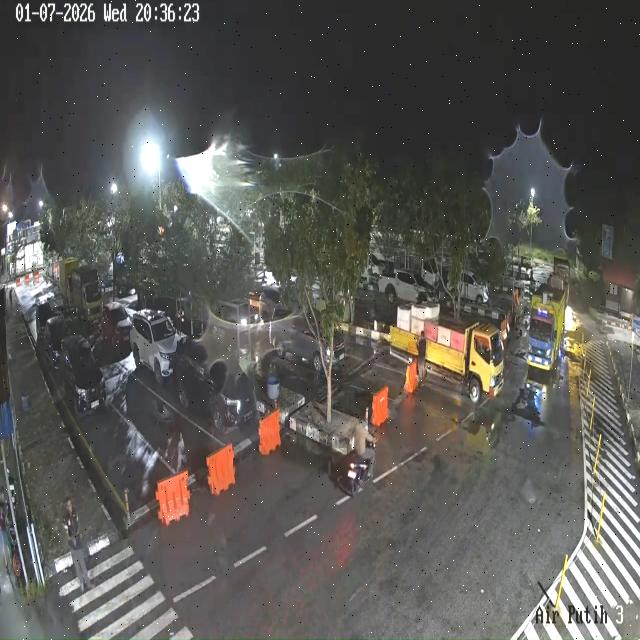Golongan IVA: (174, 339, 259, 433), (270, 312, 346, 374), (129, 308, 181, 384), (60, 334, 106, 416), (41, 315, 69, 369), (100, 301, 132, 348)
Golongan IVB: (378, 270, 438, 304)
Golongan VB: (390, 317, 504, 404), (527, 275, 567, 371), (59, 258, 102, 322)
